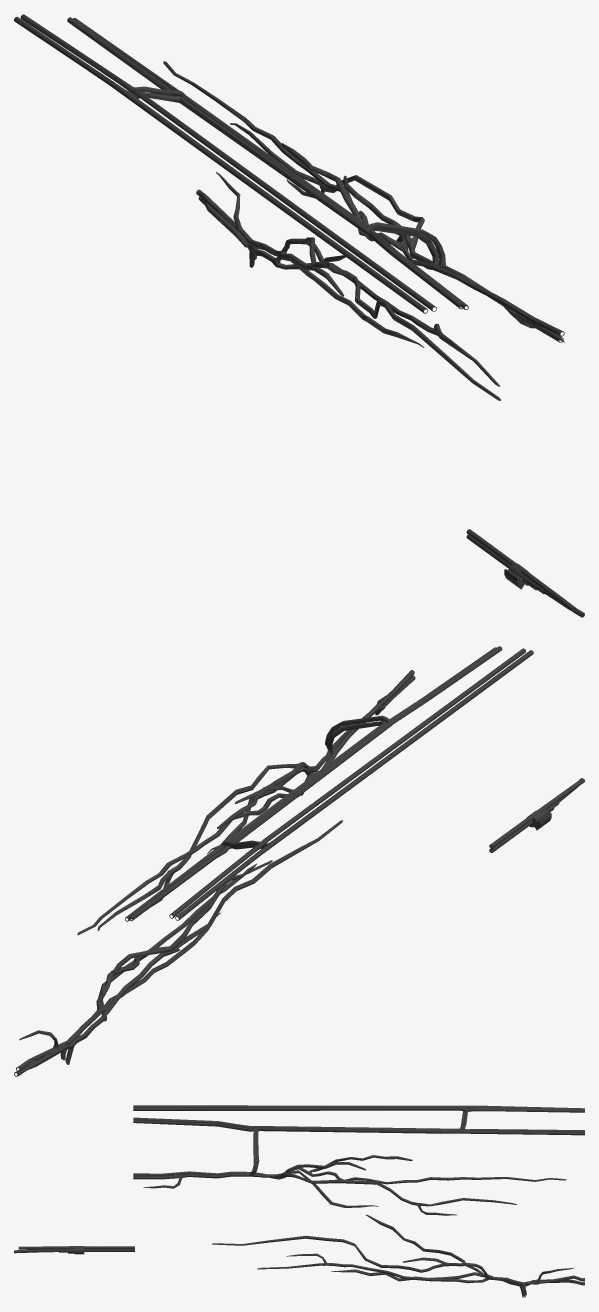
File: sharedassets63.glb
3 views of the same model, one above another, from view 1: azimuth 30°, elevation 25°; view 2: azimuth 150°, elevation 25°; view 3: azimuth 270°, elevation 25° (orthographic). The views are drawn at different scales.
Parts seen in each view (by area): view 1: 0000_Bone, blood vessels__100000_109; view 2: 0000_Bone, blood vessels__100000_109; view 3: 0000_Bone, blood vessels__100000_109.
Boxes of the visible parts, left/top/right/bottom form: 0000_Bone, blood vessels__100000_109: left=14, top=14, right=584, bottom=617; 0000_Bone, blood vessels__100000_109: left=14, top=646, right=584, bottom=1076; 0000_Bone, blood vessels__100000_109: left=14, top=1105, right=584, bottom=1297.
Size of the model in its own units: 1.14 by 1.38 by 4.96.
1 material, 1 textured.
